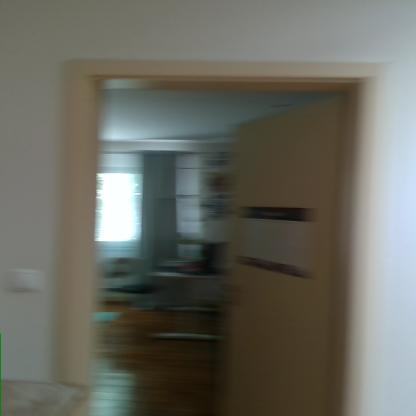open: (50, 58, 357, 416)
